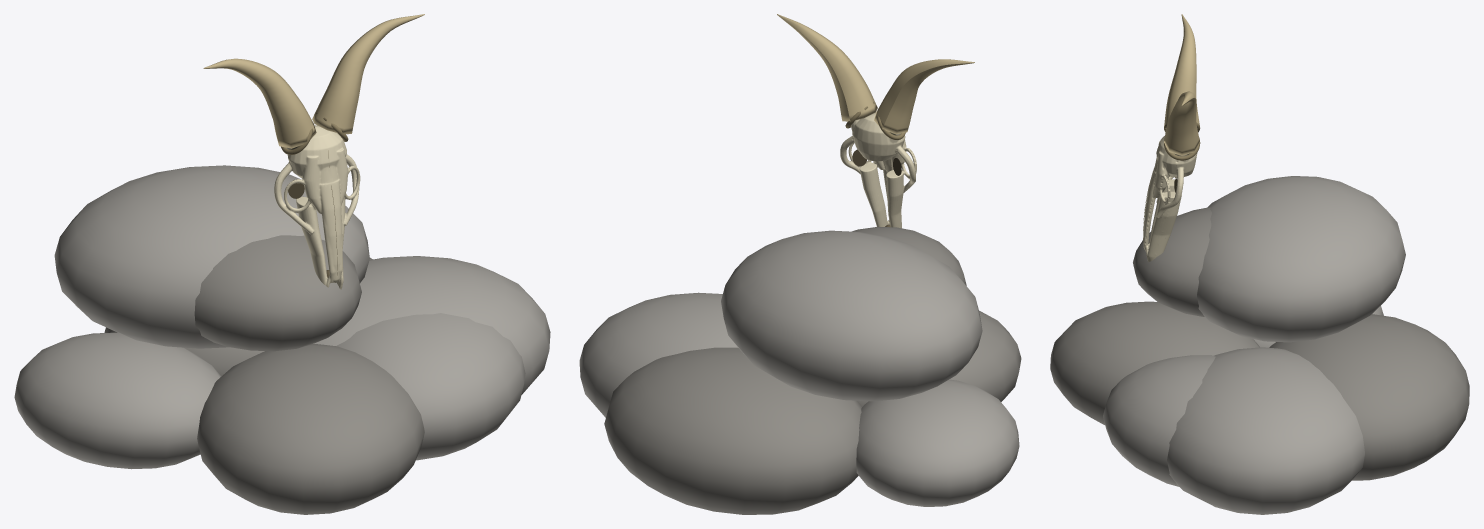
The model's file is props_p7__p7_skull_pile.glb.
The picture shows the model from 3 angles, left to right: view 1: azimuth 30°, elevation 25°; view 2: azimuth 150°, elevation 25°; view 3: azimuth 270°, elevation 25°; orthographic projection. The views are drawn at different scales.
Parts seen in each view (by area): view 1: pile_stone (×7), sculpted_deer_bone, horn_wall (×2); view 2: pile_stone (×6), horn_wall (×2), sculpted_deer_bone; view 3: pile_stone (×6), horn_wall (×2), sculpted_deer_bone.
Part boxes in pixels (<box>): pile_stone (×7): <box>14,165,550,514</box>; sculpted_deer_bone: <box>274,125,360,289</box>; horn_wall (×2): <box>203,14,424,148</box>; pile_stone (×6): <box>579,227,1021,514</box>; horn_wall (×2): <box>777,14,974,134</box>; sculpted_deer_bone: <box>840,111,916,228</box>; pile_stone (×6): <box>1050,176,1469,514</box>; horn_wall (×2): <box>1164,14,1199,155</box>; sculpted_deer_bone: <box>1143,136,1197,261</box>.
Bounding box in the file's own units: 0.9204 × 0.8146 × 0.8177.
